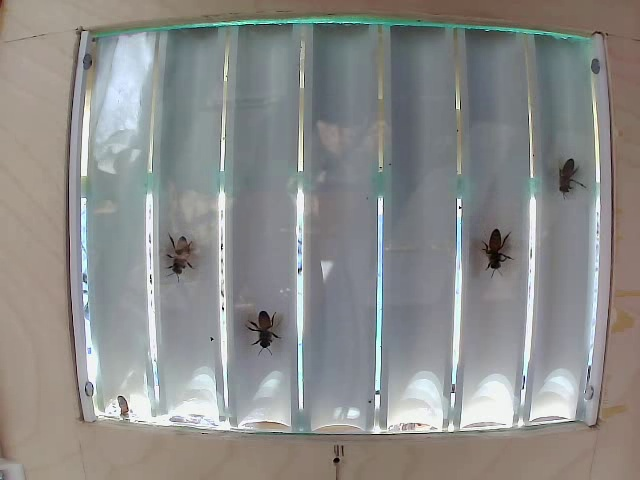bee: (242, 311, 294, 365), (476, 227, 515, 276), (548, 152, 589, 189), (176, 241, 199, 276)
